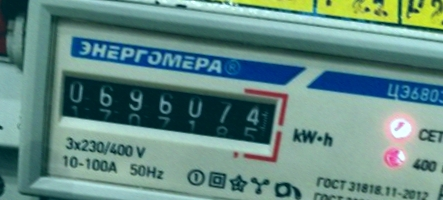0: (64, 77, 86, 103), (185, 92, 204, 119)
4: (243, 100, 262, 124)
5: (241, 125, 259, 142)
6: (156, 88, 176, 116), (96, 81, 116, 107)
7: (214, 97, 235, 124)
9: (125, 84, 145, 113)
screen: (44, 56, 292, 158)
